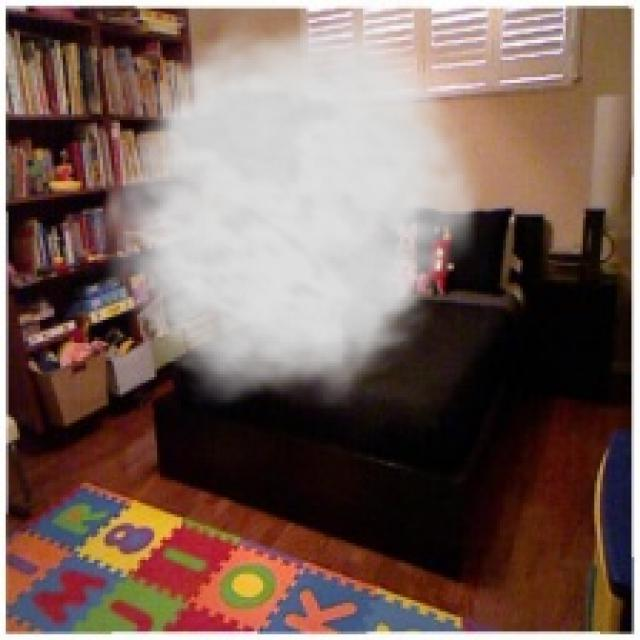smoke: (83, 0, 491, 409)
